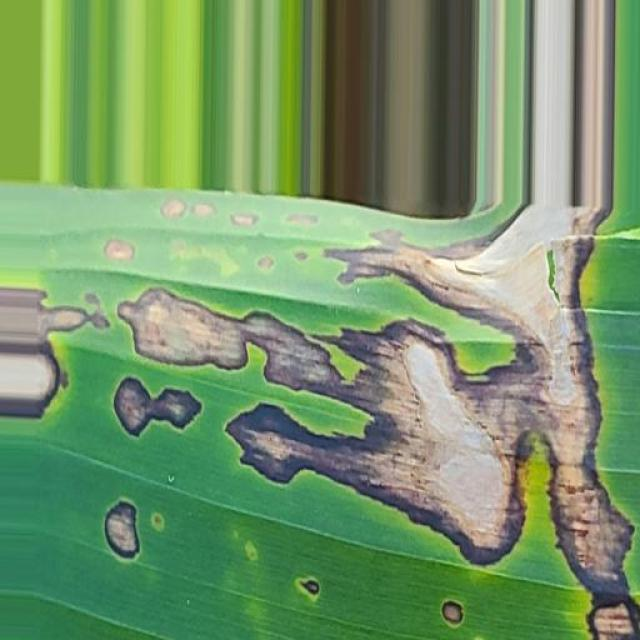Early_rust: (0, 153, 640, 640)
